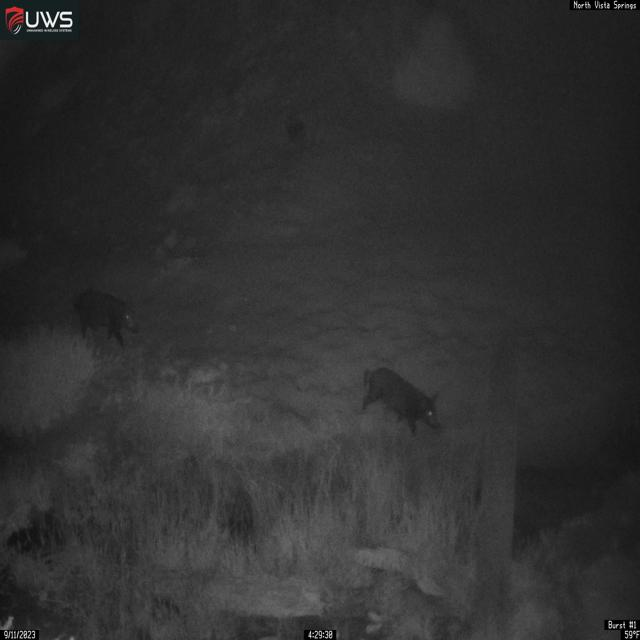pig: (361, 366, 442, 436)
